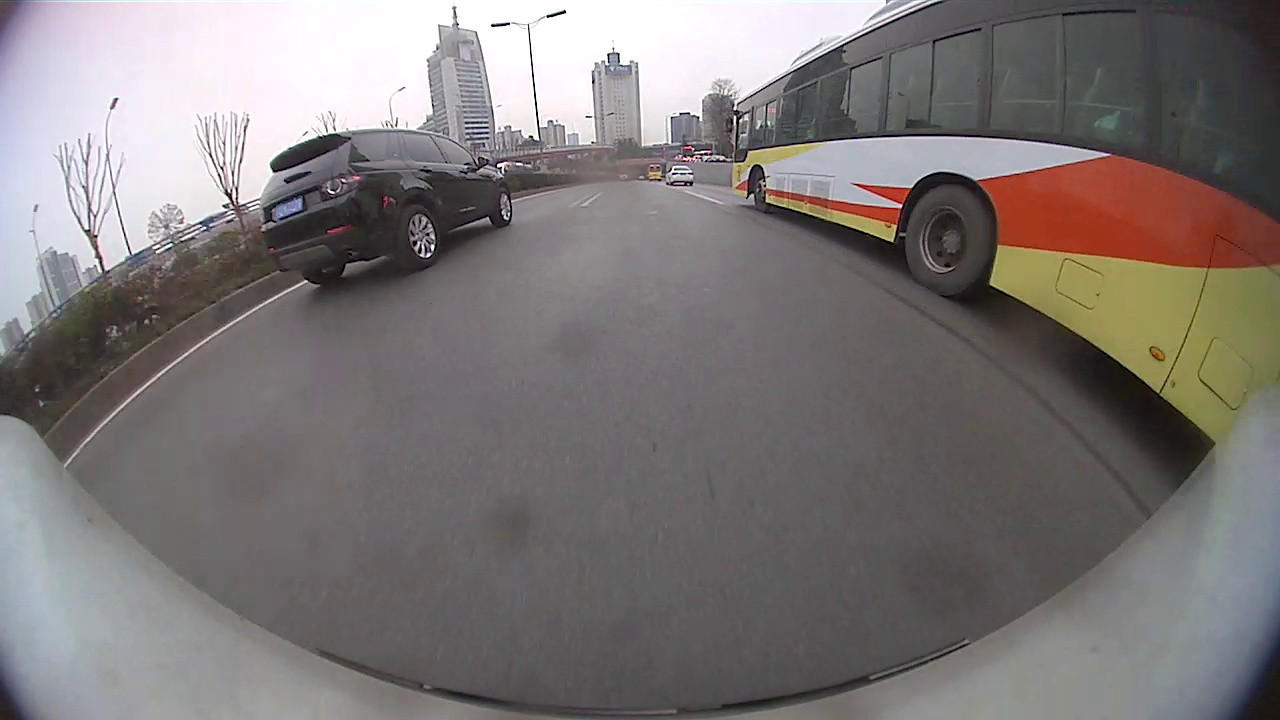bus: (723, 1, 1279, 446)
car: (258, 127, 514, 285), (662, 163, 698, 188)
front: (749, 170, 773, 211), (496, 189, 517, 225)
rear: (901, 185, 992, 299), (398, 203, 443, 269)
